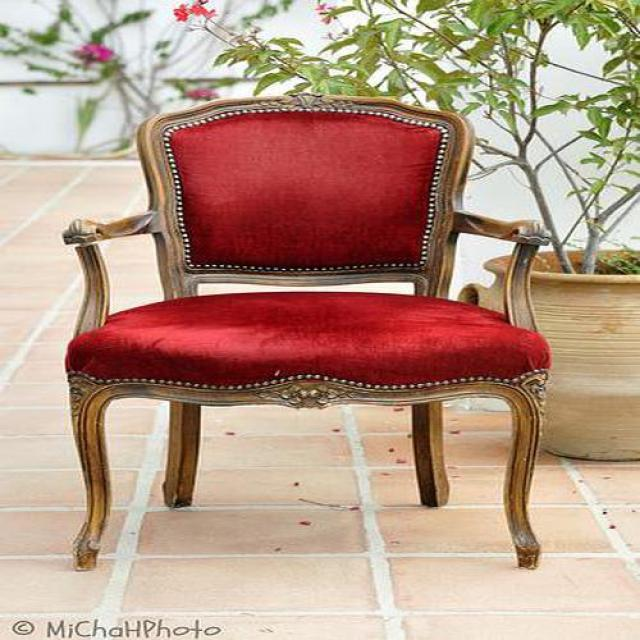chair: (63, 95, 553, 572)
